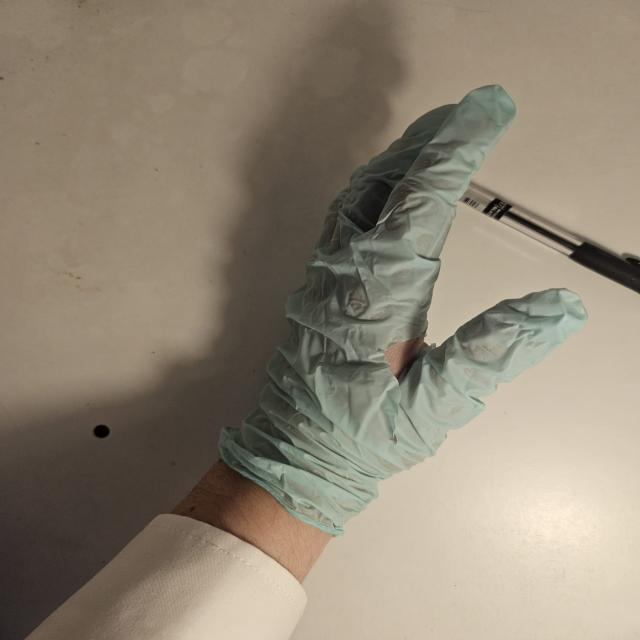gloves_damaged: (213, 82, 595, 532)
